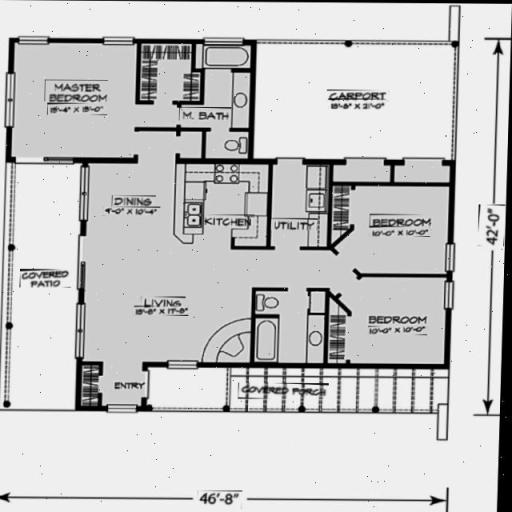bathroom: (168, 63, 250, 170)
bedroom: (16, 42, 142, 158), (331, 275, 438, 360), (342, 187, 446, 265)
hall: (89, 244, 248, 360)
kitchen: (87, 168, 271, 240)
porch: (258, 46, 446, 156), (226, 368, 444, 415)
